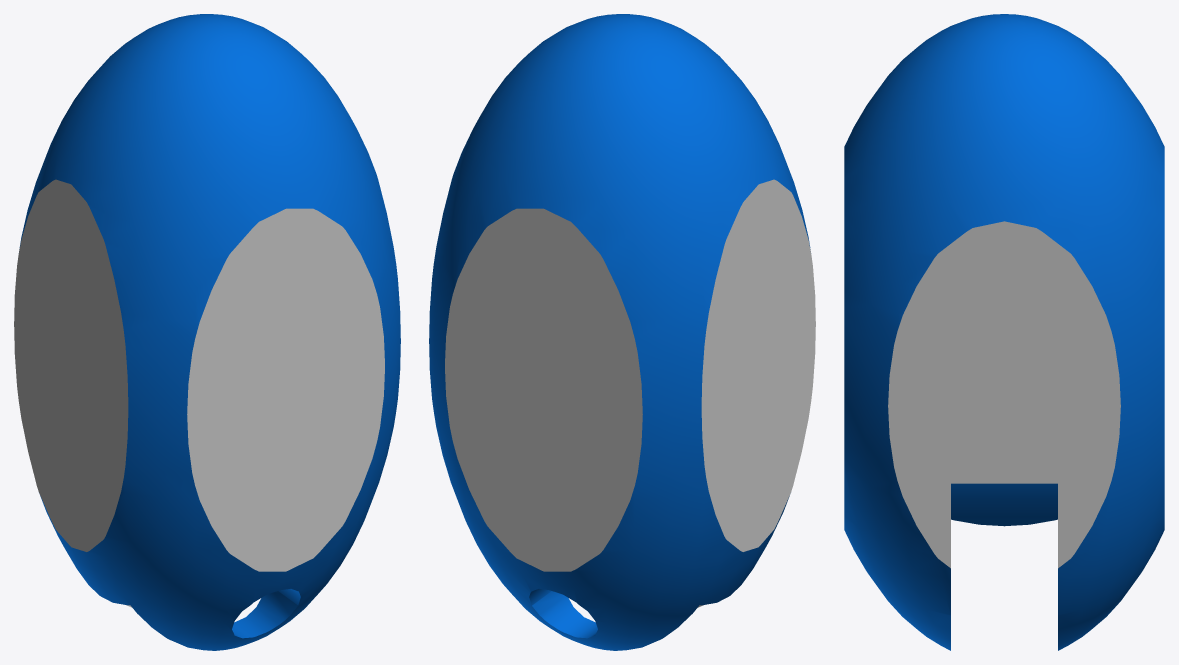
Rendered from round-tip.glb.
3 renders of one model, left to right at view 1: azimuth 30°, elevation 25°; view 2: azimuth 150°, elevation 25°; view 3: azimuth 270°, elevation 25°, orthographic.
Parts seen in each view (by area): view 1: EndPhalange; view 2: EndPhalange; view 3: EndPhalange.
Part boxes in pixels (x1,y1,x2,y2): EndPhalange: (14,14,400,650); EndPhalange: (429,14,815,650); EndPhalange: (844,14,1164,650).
Size of the model in its own units: 0.3 by 0.6358 by 0.3.
